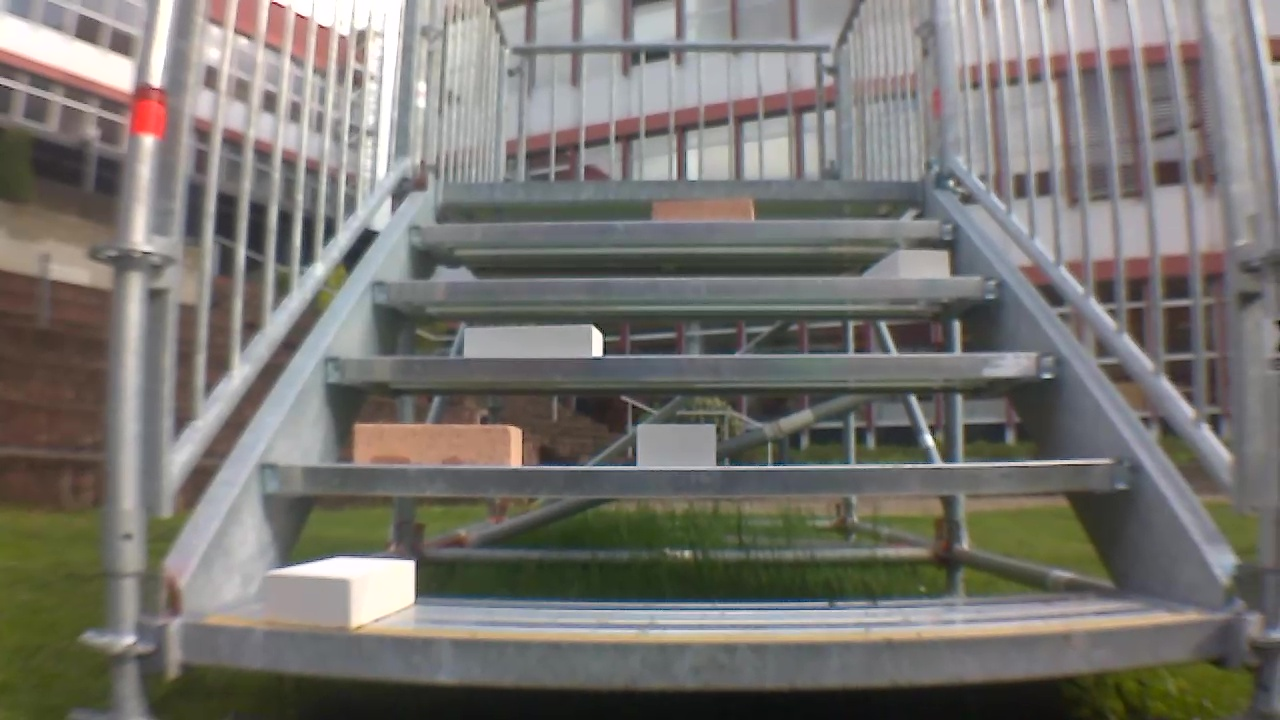brick: (267, 558, 415, 628), (355, 423, 521, 466), (464, 325, 603, 357), (637, 424, 714, 468), (872, 249, 949, 278), (652, 197, 753, 219)
edge: (181, 622, 1228, 689), (260, 461, 1137, 499), (325, 353, 1054, 382), (373, 275, 1002, 301), (414, 220, 956, 240), (446, 180, 925, 199)
stairs: (96, 6, 1276, 720)
steps: (168, 174, 1250, 705)
